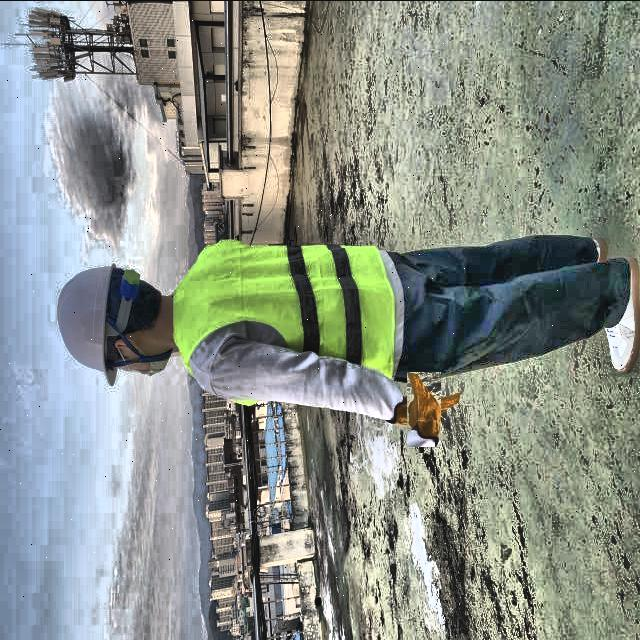gloved: (396, 381, 451, 436)
